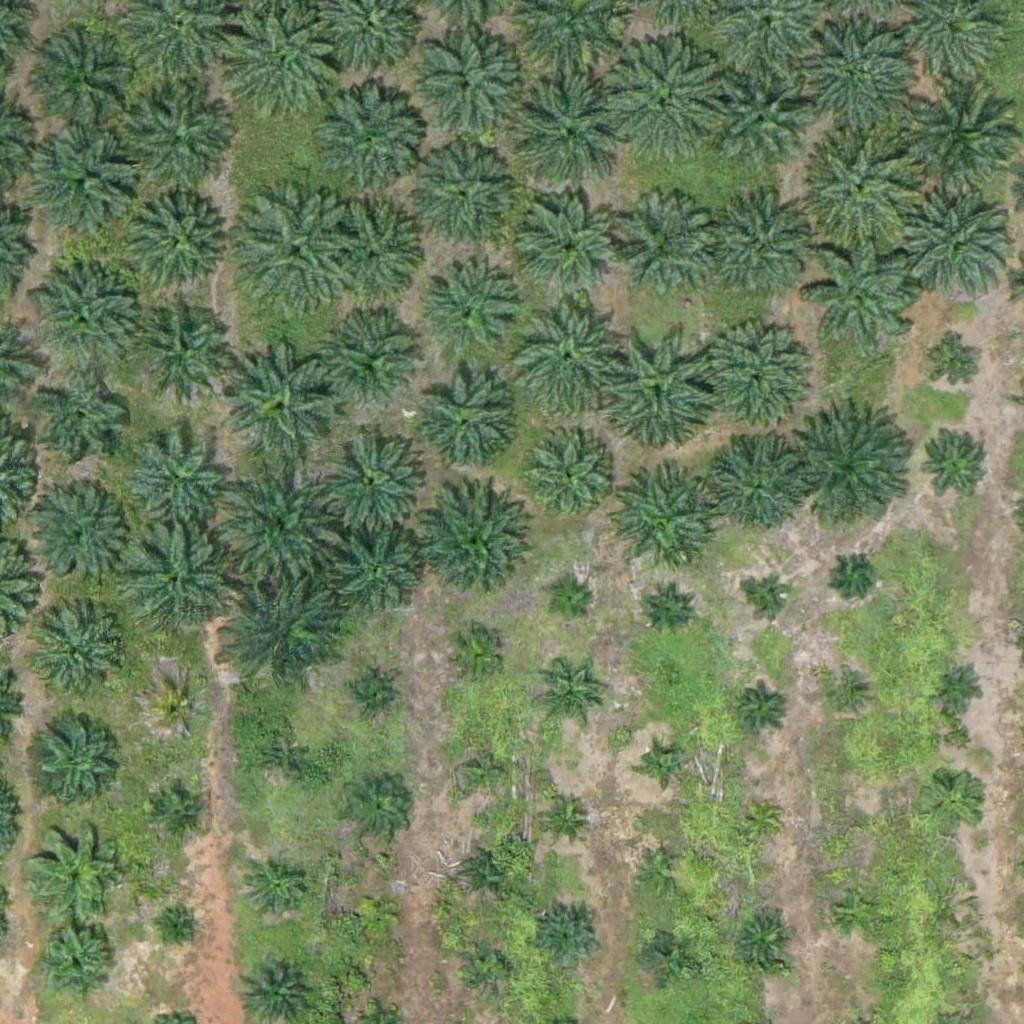Kelapa_Sawit: (223, 6, 348, 132), (302, 77, 427, 203), (404, 27, 529, 153), (509, 73, 634, 199), (792, 20, 917, 146), (598, 327, 723, 453), (506, 293, 631, 419), (231, 188, 356, 314), (216, 458, 341, 584), (224, 569, 349, 695), (605, 40, 730, 165), (794, 408, 919, 533), (415, 489, 528, 603), (806, 235, 919, 348), (695, 321, 808, 434), (124, 527, 237, 640), (29, 262, 142, 375), (316, 419, 428, 533), (226, 339, 338, 453), (31, 22, 143, 135), (120, 88, 232, 201), (903, 195, 1015, 308), (807, 130, 919, 243), (604, 471, 716, 584), (705, 432, 805, 533), (711, 197, 811, 298), (610, 196, 710, 297), (520, 199, 620, 300), (519, 426, 619, 527), (408, 146, 508, 247), (420, 262, 520, 363), (322, 195, 422, 296), (128, 428, 228, 529), (32, 374, 132, 475), (27, 483, 127, 584), (25, 818, 125, 919), (412, 371, 512, 471), (325, 310, 425, 410), (125, 190, 225, 290), (134, 298, 234, 398), (37, 134, 137, 234), (38, 612, 126, 701), (32, 919, 120, 1007), (334, 530, 422, 618), (715, 79, 802, 168), (32, 708, 119, 796), (918, 424, 993, 499), (536, 669, 599, 732), (442, 623, 505, 686), (538, 905, 601, 968), (453, 740, 516, 803), (346, 778, 408, 841), (246, 857, 308, 920), (733, 909, 795, 972), (923, 770, 985, 833), (250, 727, 312, 790), (643, 926, 693, 977), (463, 848, 513, 899), (932, 341, 982, 392), (539, 791, 589, 842), (464, 942, 514, 993), (343, 669, 393, 720), (352, 888, 402, 939), (153, 786, 203, 836), (643, 584, 693, 634), (737, 682, 787, 732), (933, 661, 983, 711), (833, 886, 883, 936), (636, 846, 686, 896), (544, 579, 594, 629), (154, 686, 204, 736), (834, 554, 872, 592), (742, 800, 780, 838), (645, 745, 683, 783), (751, 580, 788, 618), (828, 678, 865, 716), (840, 807, 877, 845), (168, 914, 193, 939)
